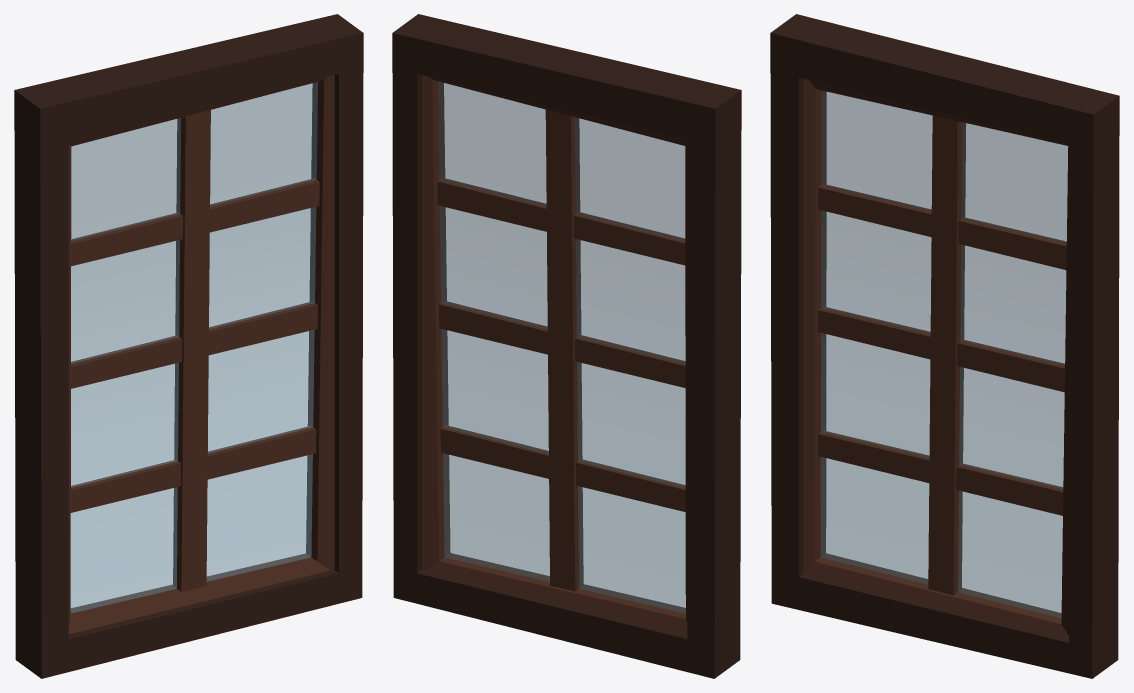
Rendered from Window 2x4 Closed.glb.
The picture shows the model from 3 angles, left to right: view 1: azimuth 30°, elevation 25°; view 2: azimuth 150°, elevation 25°; view 3: azimuth 330°, elevation 25°; orthographic projection.
Visible parts, largest first — view 1: Window 2x4 Closed; view 2: Window 2x4 Closed; view 3: Window 2x4 Closed.
Boxes of the visible parts, x1,y1,x2,y2 form: Window 2x4 Closed: [14, 14, 363, 678]; Window 2x4 Closed: [392, 14, 741, 678]; Window 2x4 Closed: [770, 14, 1119, 678].
Bounding box in the file's own units: 1.15 × 1.94 × 0.16.
2 materials, 2 textured.
